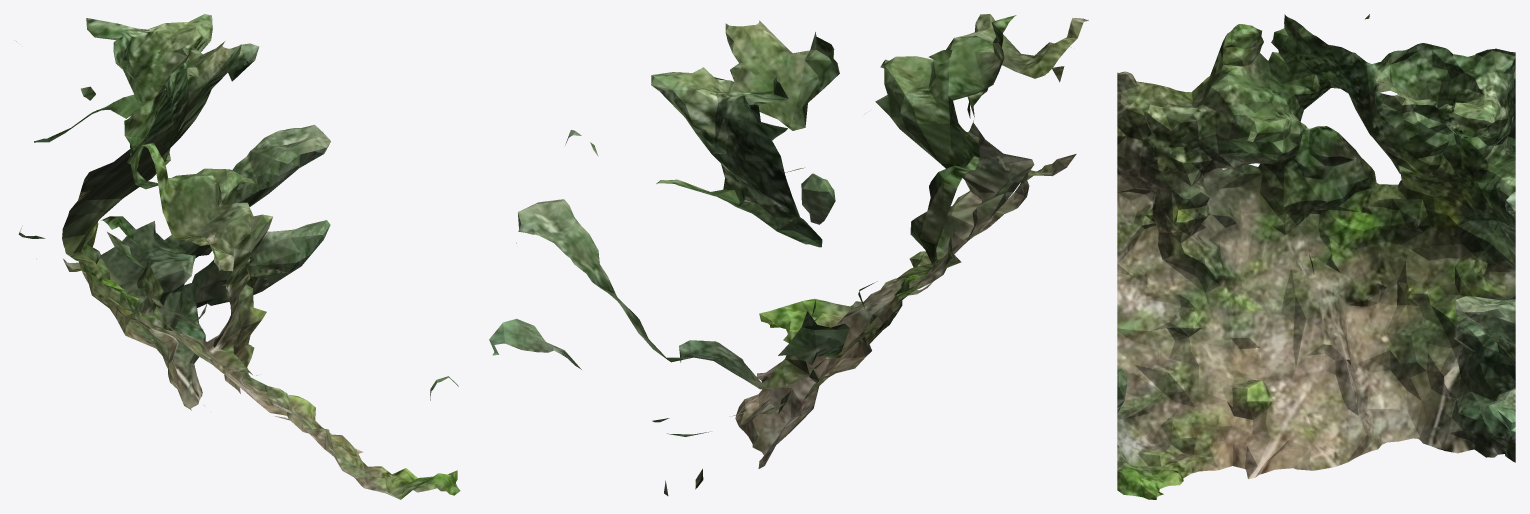
The picture shows the model from 3 angles, left to right: view 1: azimuth 30°, elevation 25°; view 2: azimuth 150°, elevation 25°; view 3: azimuth 270°, elevation 25°; orthographic projection. The views are drawn at different scales.
Bounding box in the file's own units: 2.63 × 2.95 × 2.95.
5 materials, 5 textured.
